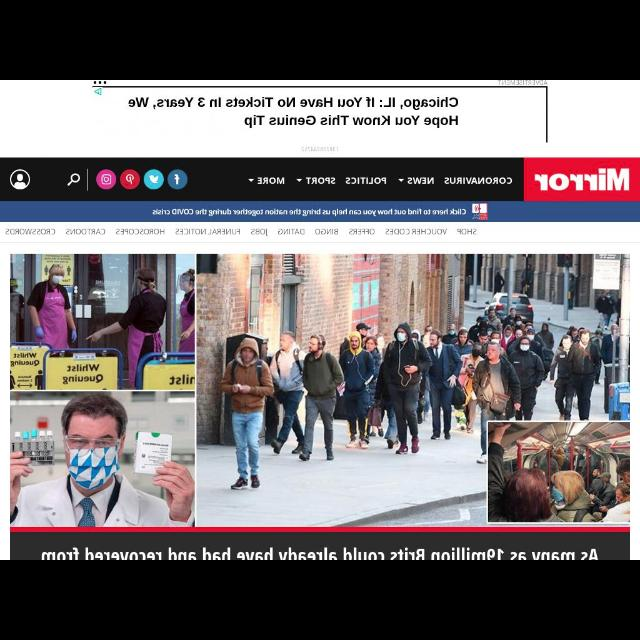icon: (8, 170, 34, 192), (64, 171, 85, 189), (396, 178, 404, 185), (246, 177, 254, 183), (295, 178, 303, 182)
iframe: (89, 80, 552, 154)
image: (12, 250, 628, 526), (526, 159, 638, 201), (166, 168, 188, 192), (118, 169, 142, 191), (95, 167, 115, 193), (144, 168, 164, 190)
multitab: (1, 223, 637, 241)
spinner: (294, 172, 336, 188), (244, 174, 286, 190), (395, 174, 437, 188)
text: (39, 548, 598, 558), (152, 208, 464, 218), (442, 174, 514, 188), (384, 227, 448, 237), (176, 228, 240, 238), (116, 227, 166, 239), (346, 176, 386, 188), (66, 228, 108, 238), (5, 230, 56, 238), (454, 226, 478, 238), (306, 175, 334, 185), (276, 227, 304, 237), (406, 177, 436, 186), (313, 228, 339, 238), (258, 177, 286, 186), (348, 228, 378, 236), (249, 227, 269, 237)
toolbar: (1, 158, 639, 202)
